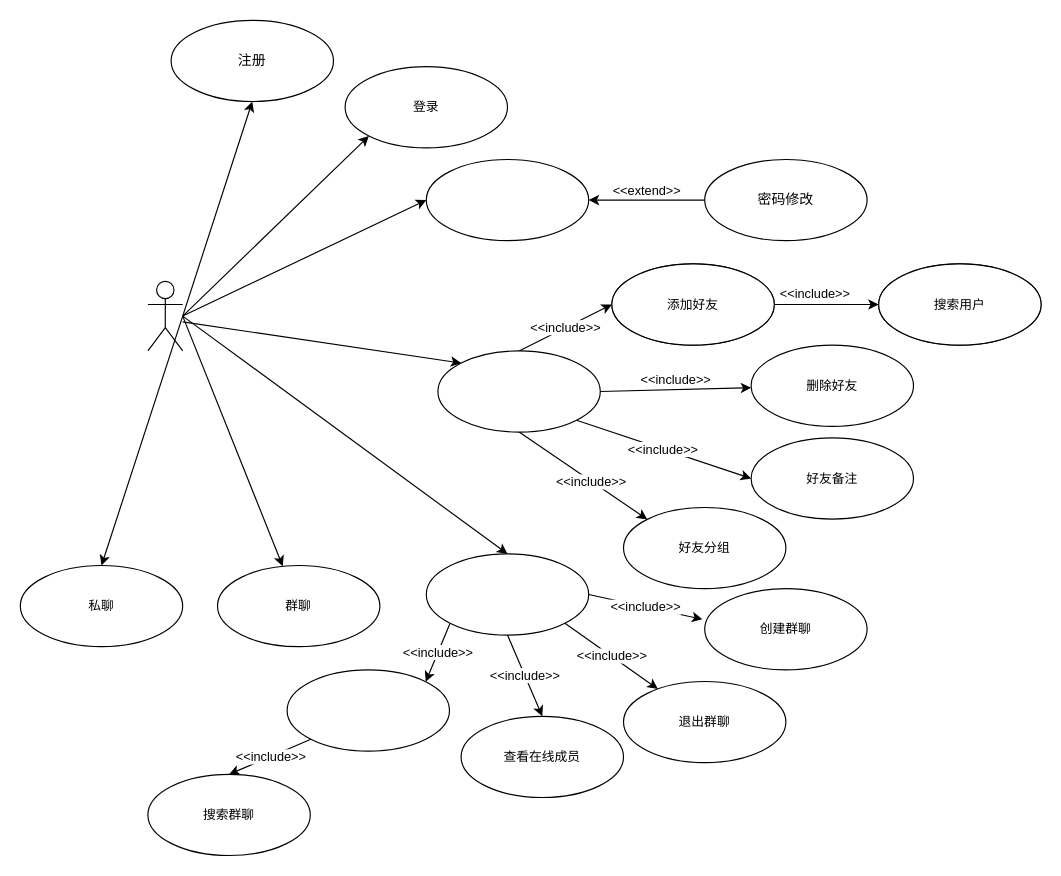
This 1061x876 diagram has some shape labels left out. The shapes that lost their labels are listed below. From the top down, each one's centre as x and y in pixels, then its label:
At point 507,199: "个人信息维护".
At point 165,315: "用户".
At point 518,391: "好友管理".
At point 507,594: "群聊管理".
At point 367,710: "申请入群".
